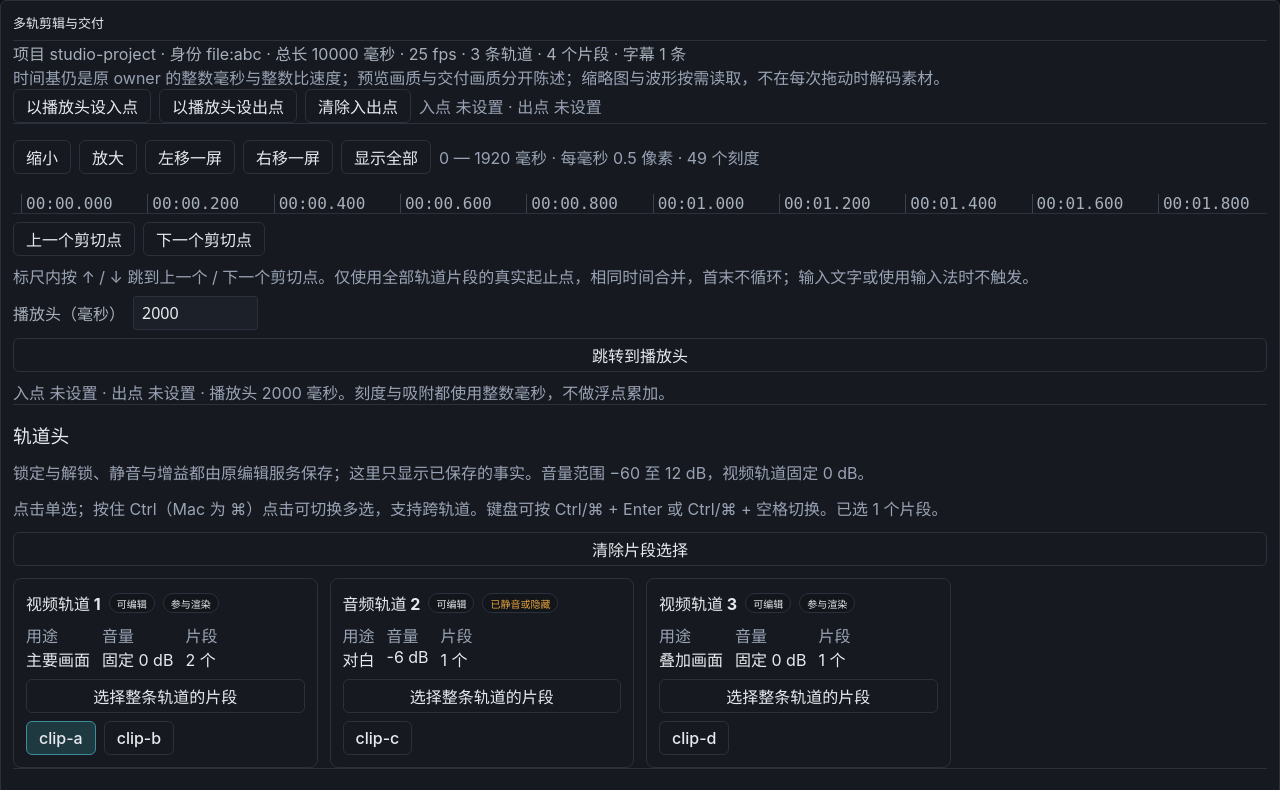
Test: 工作区面板：冻结入口与零副作用 › 入出点只按给定事实计算，越界时明确拒绝
Step 1. Click the button "以播放头设入点" → (82, 106), box [13, 89, 151, 123]
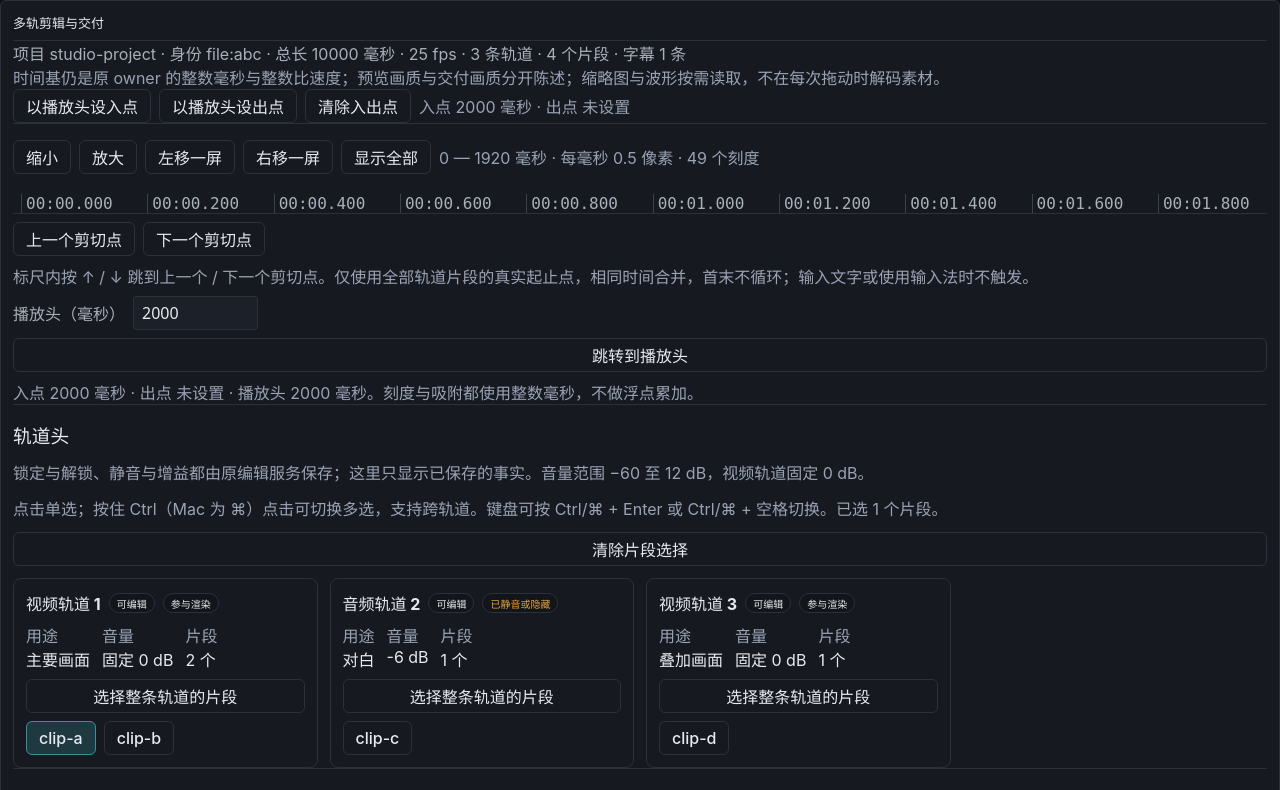
expect the text "入点 2000 毫秒 · 出点 未设置" is shown: met, box [419, 94, 630, 118]
Step 2. Click the button "以播放头设出点" → (228, 106), box [159, 89, 297, 123]
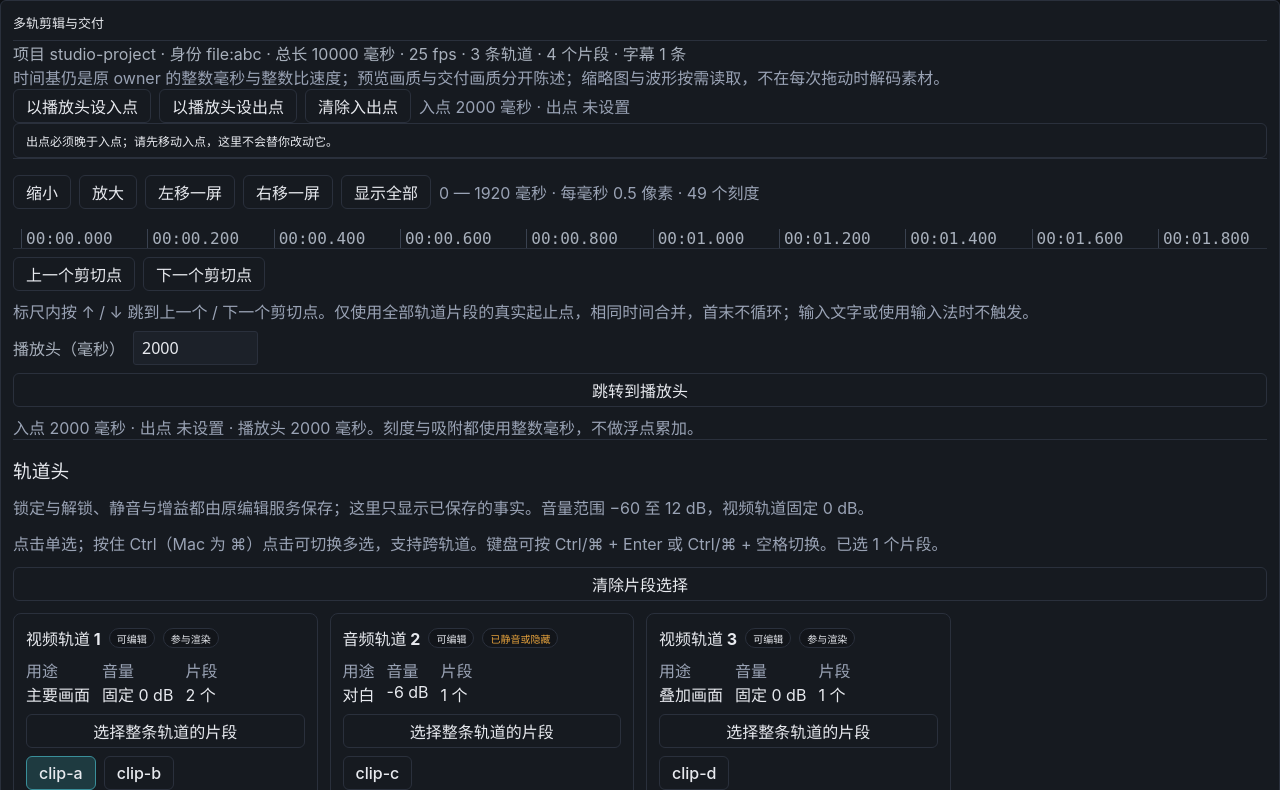
expect the message "出点必须晚于入点；请先移动入点，这里不会替你改动它。" is shown: met, box [13, 123, 1267, 158]
Step 3. Click the button "清除入出点" → (358, 106), box [305, 89, 411, 123]
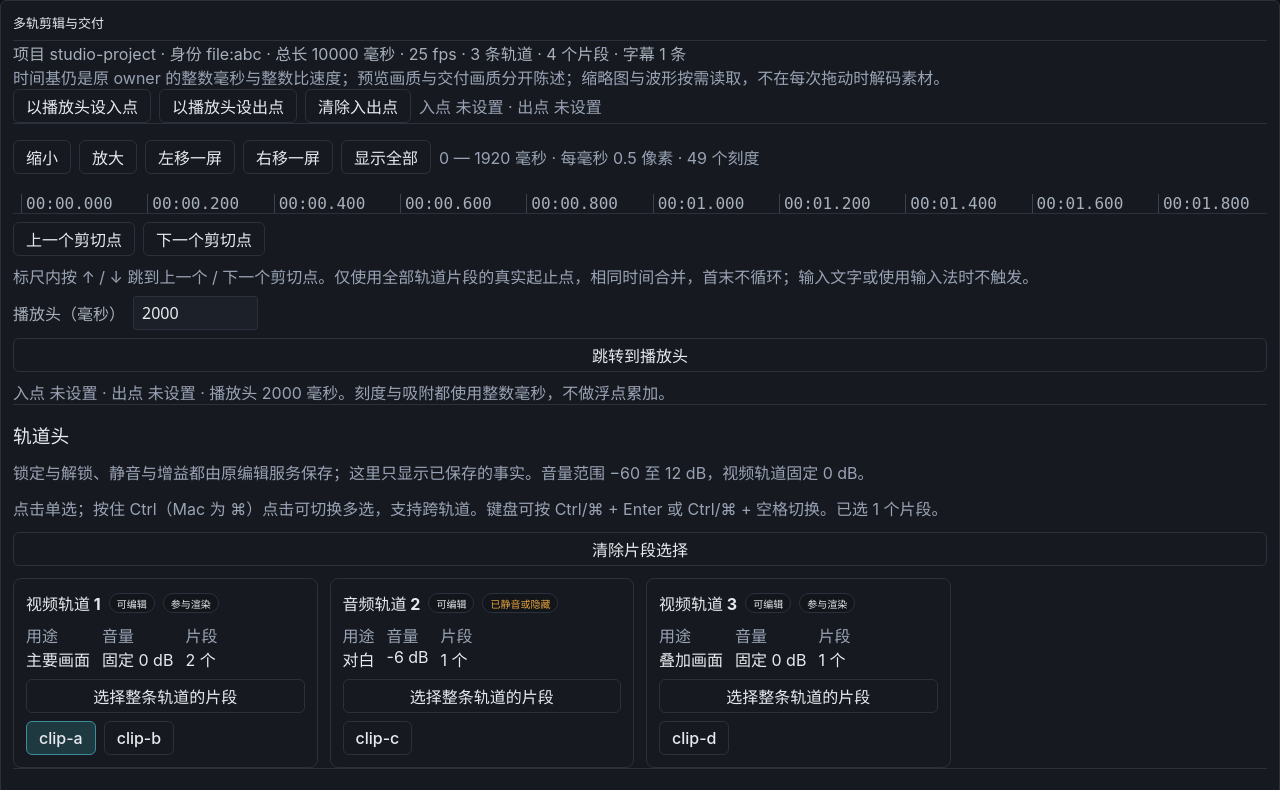
expect the text "入点 未设置 · 出点 未设置" is shown: met, box [419, 94, 602, 118]
